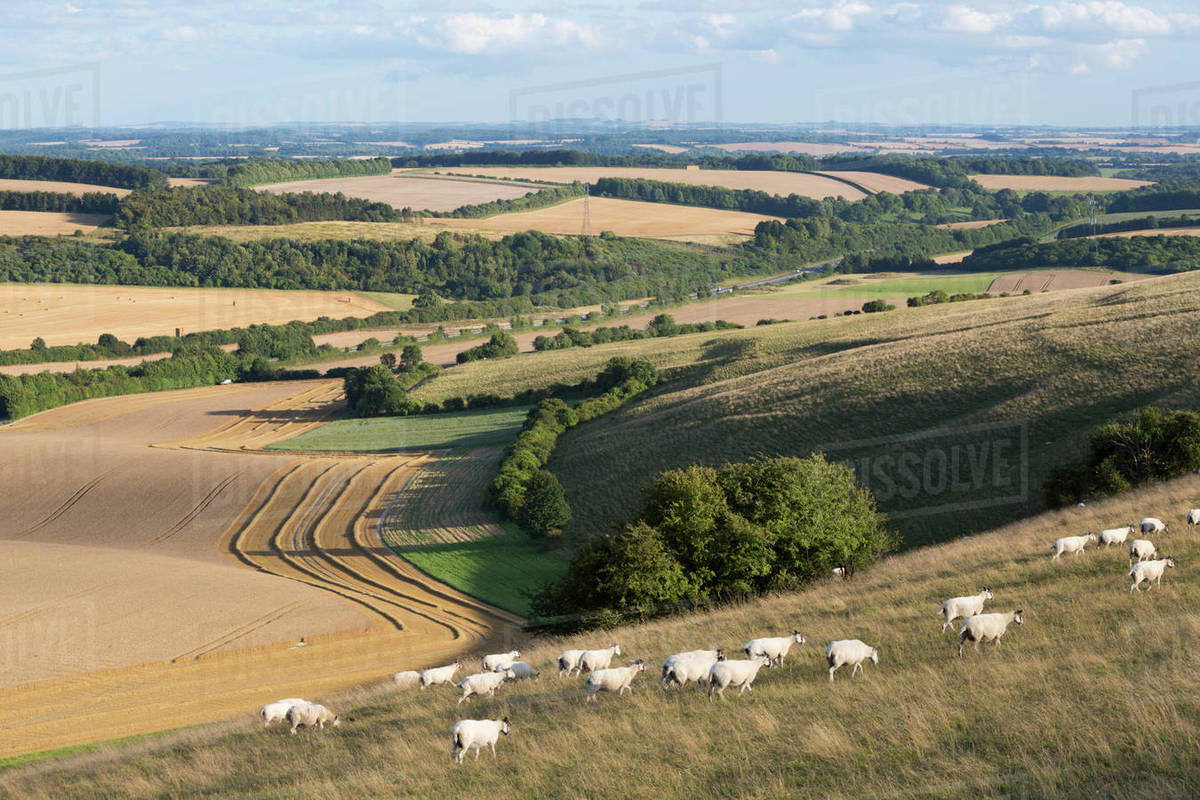sheep: (666, 647, 735, 702), (453, 718, 516, 771), (579, 660, 647, 708), (710, 657, 771, 709), (938, 586, 994, 638), (961, 610, 1027, 653), (749, 629, 807, 677), (823, 639, 883, 679), (1124, 557, 1182, 594), (577, 636, 630, 675), (258, 692, 306, 733), (286, 703, 342, 737), (457, 673, 516, 703), (1097, 523, 1141, 556), (1053, 531, 1099, 562), (421, 665, 463, 697), (1126, 535, 1160, 570), (483, 648, 532, 671), (553, 648, 586, 682), (499, 661, 542, 686), (1137, 513, 1173, 538)
